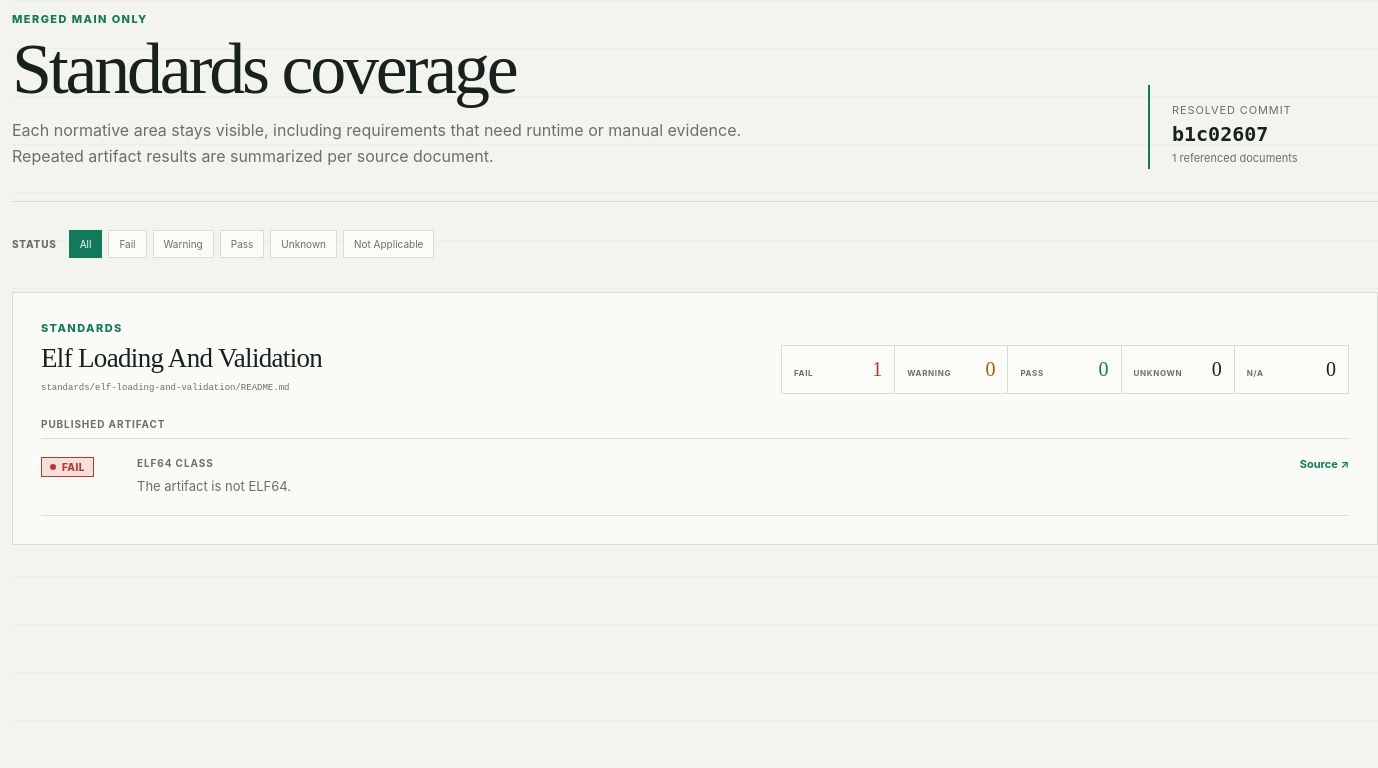
Scenario: standards › filters findings by status with keyboard-accessible buttons
The width and height of the screenshot is (1378, 768).
Click the button "pass" at (242,244), box [220,230,264,258]
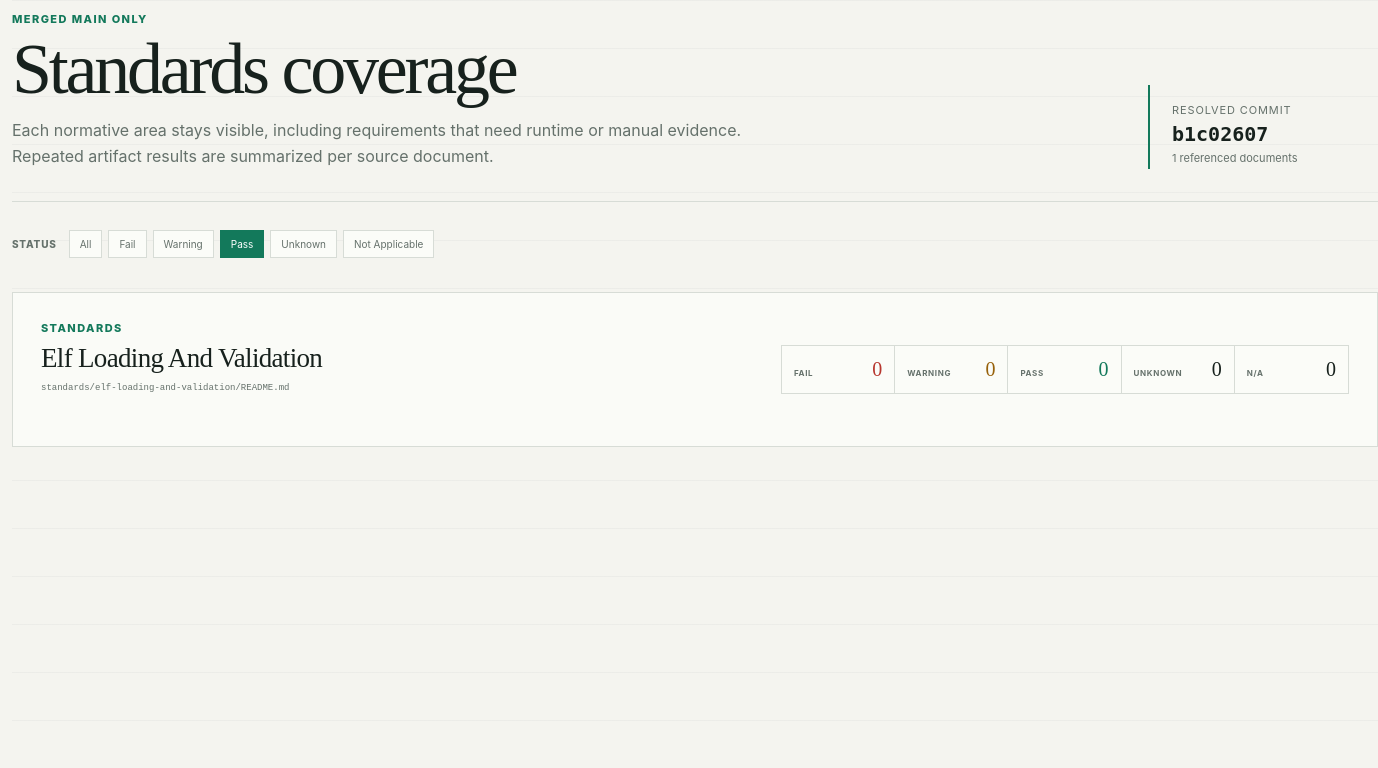
Expected: the text "The artifact is not ELF64." is gone
